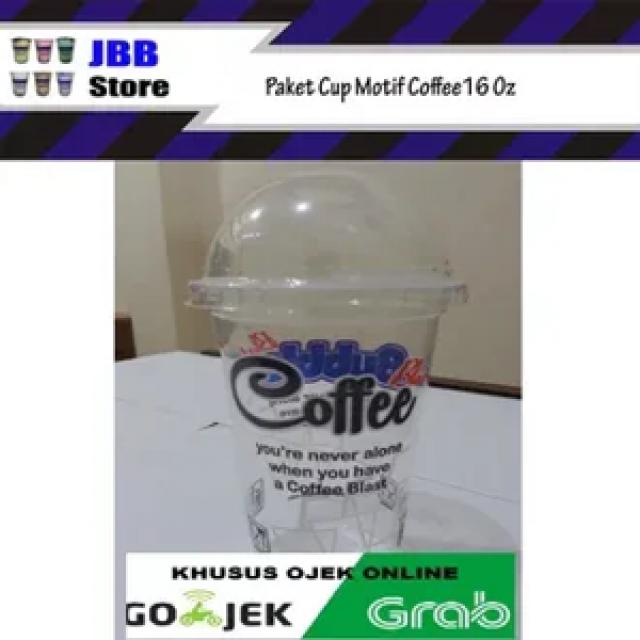plastic cup: (175, 167, 476, 550)
